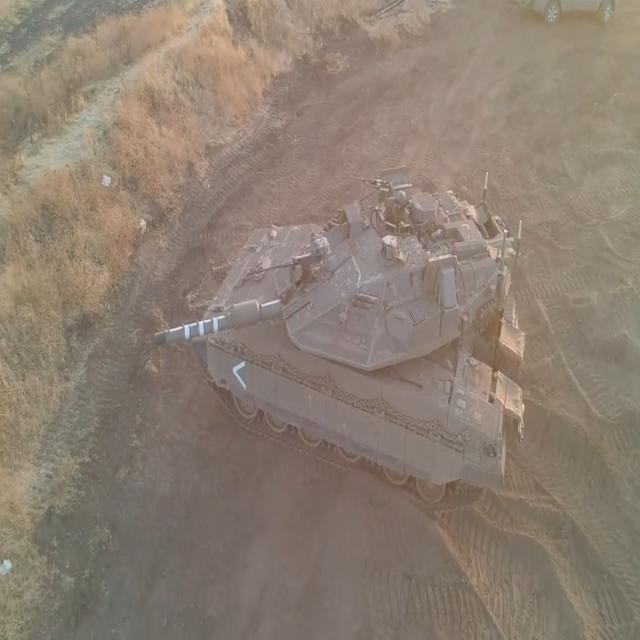tank: (150, 162, 546, 519)
